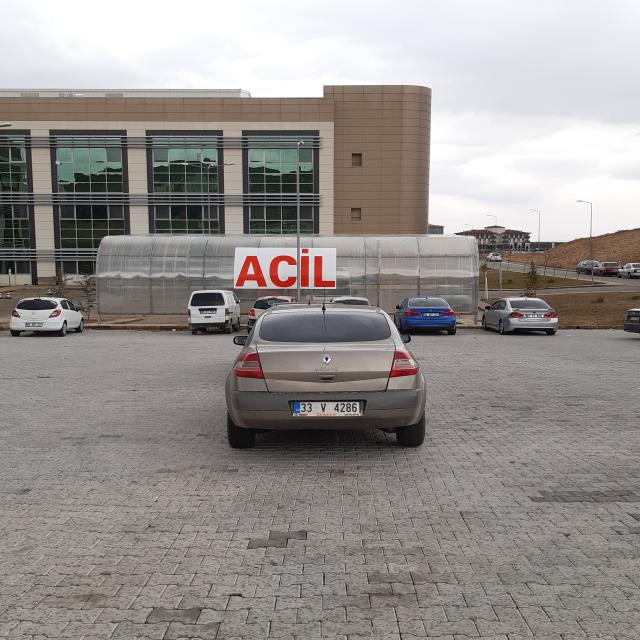license_plate: (294, 402, 361, 414)
